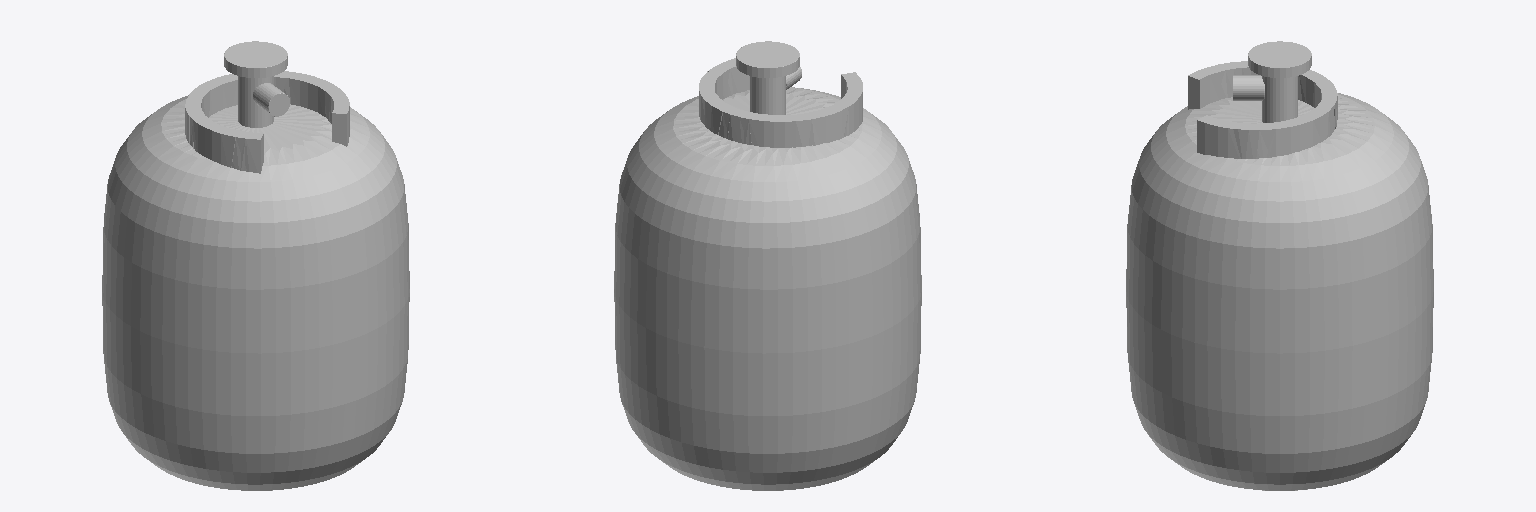
The model's file is Natural gas tank.obj.
3 renders of one model, left to right at view 1: azimuth 30°, elevation 25°; view 2: azimuth 150°, elevation 25°; view 3: azimuth 270°, elevation 25°, orthographic.
Visible parts, largest first — view 1: Tank_Cylinder, Cube, Nozzle_cap_Cylinder.003, Nozzle_tube_Cylinder.002, Nozzle_Cylinder.004; view 2: Tank_Cylinder, Cube, Nozzle_cap_Cylinder.003, Nozzle_tube_Cylinder.002; view 3: Tank_Cylinder, Cube, Nozzle_cap_Cylinder.003, Nozzle_tube_Cylinder.002, Nozzle_Cylinder.004.
Part boxes in pixels (x1,y1,x2,y2): Tank_Cylinder: (102, 95, 409, 490); Cube: (185, 71, 349, 173); Nozzle_cap_Cylinder.003: (224, 41, 287, 77); Nozzle_tube_Cylinder.002: (238, 76, 273, 127); Nozzle_Cylinder.004: (253, 83, 289, 116); Tank_Cylinder: (614, 87, 921, 490); Cube: (699, 58, 862, 147); Nozzle_cap_Cylinder.003: (736, 41, 799, 77); Nozzle_tube_Cylinder.002: (750, 76, 785, 114); Tank_Cylinder: (1126, 93, 1433, 490); Cube: (1188, 61, 1337, 158); Nozzle_cap_Cylinder.003: (1248, 41, 1311, 77); Nozzle_tube_Cylinder.002: (1262, 76, 1297, 122); Nozzle_Cylinder.004: (1233, 75, 1264, 100).
Size of the model in its own units: 1.98 by 2.86 by 1.98.